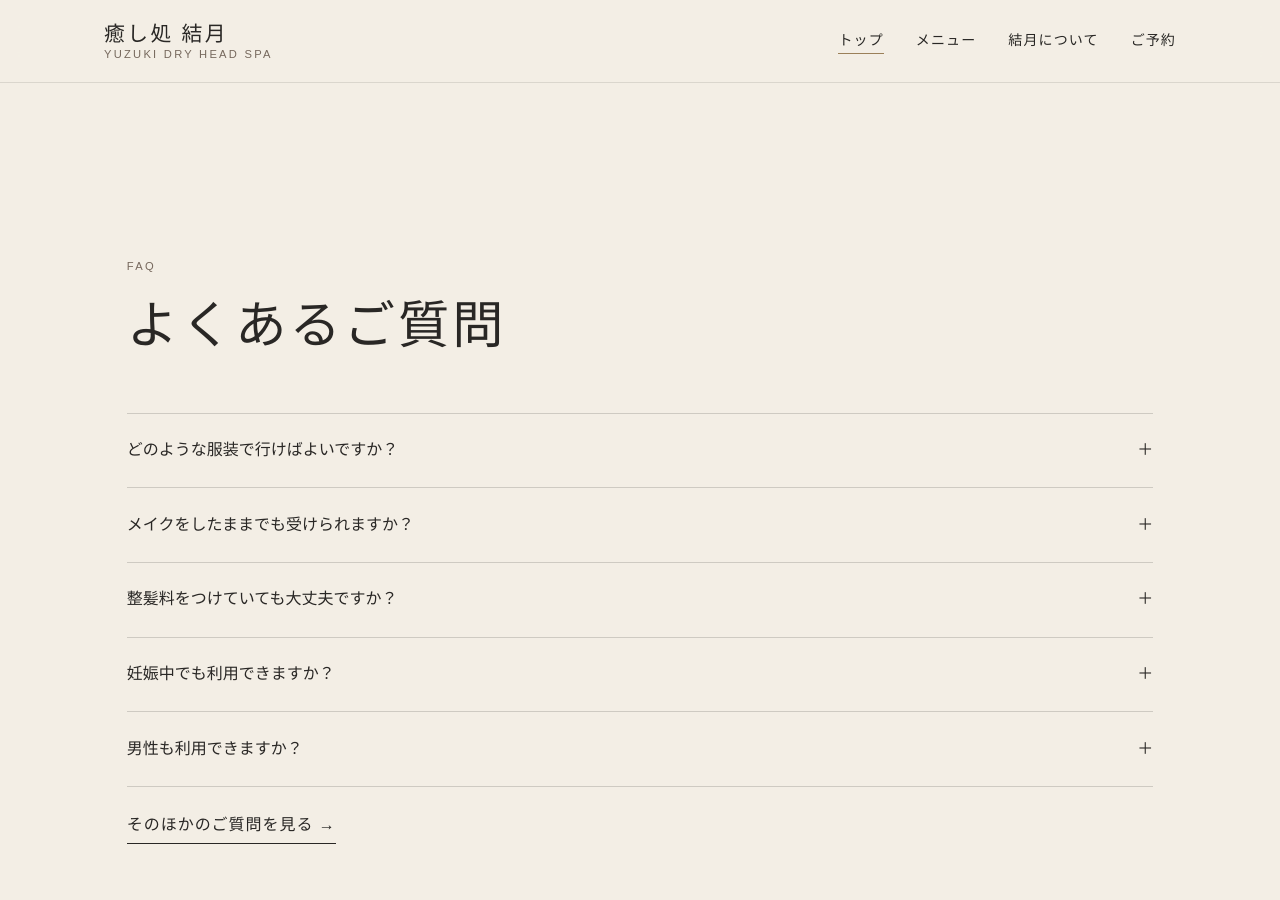
Test: TOPに必須コンテンツと操作可能なFAQを表示する
The image size is (1280, 900).
(page scrolled)
What coordinates should you click on to do the following:
click the button "どのような服装で行けばよいですか？ ＋"
I would click on:
 (263, 450)
Its box is [127, 414, 1153, 487].
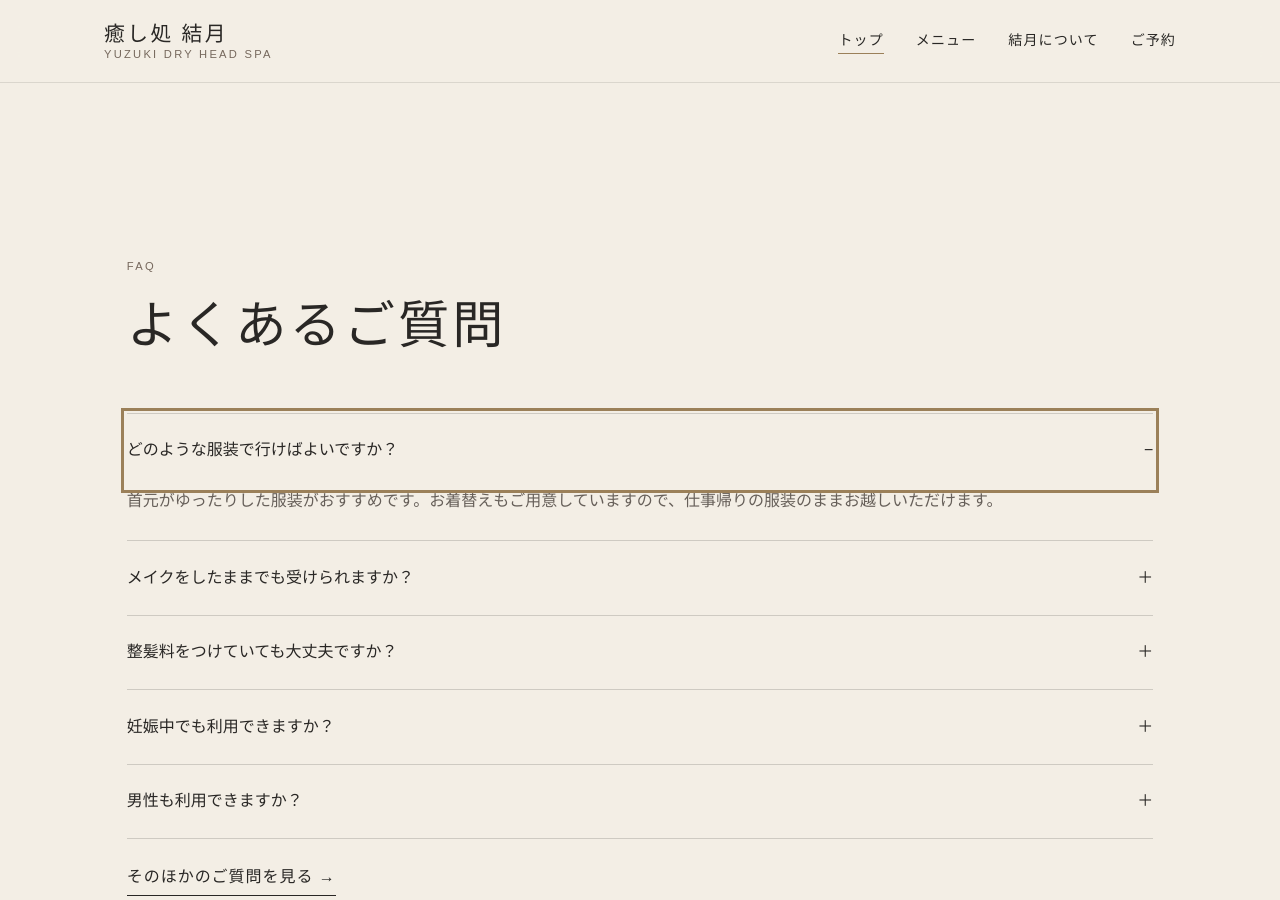
Check: the button "どのような服装で行けばよいですか？ −" is expanded, box [127, 414, 1153, 487]
Check: the text "首元がゆったりした服装がおすすめです。お着替えもご用意していますので、仕事帰りの服装のままお越しいただけます。" is shown, box [127, 492, 1002, 509]
What coordinates should you click on to do the following:
click the button "メイクをしたままでも受けられますか？ ＋"
I would click on:
 (270, 577)
Its box is [127, 541, 1153, 615].
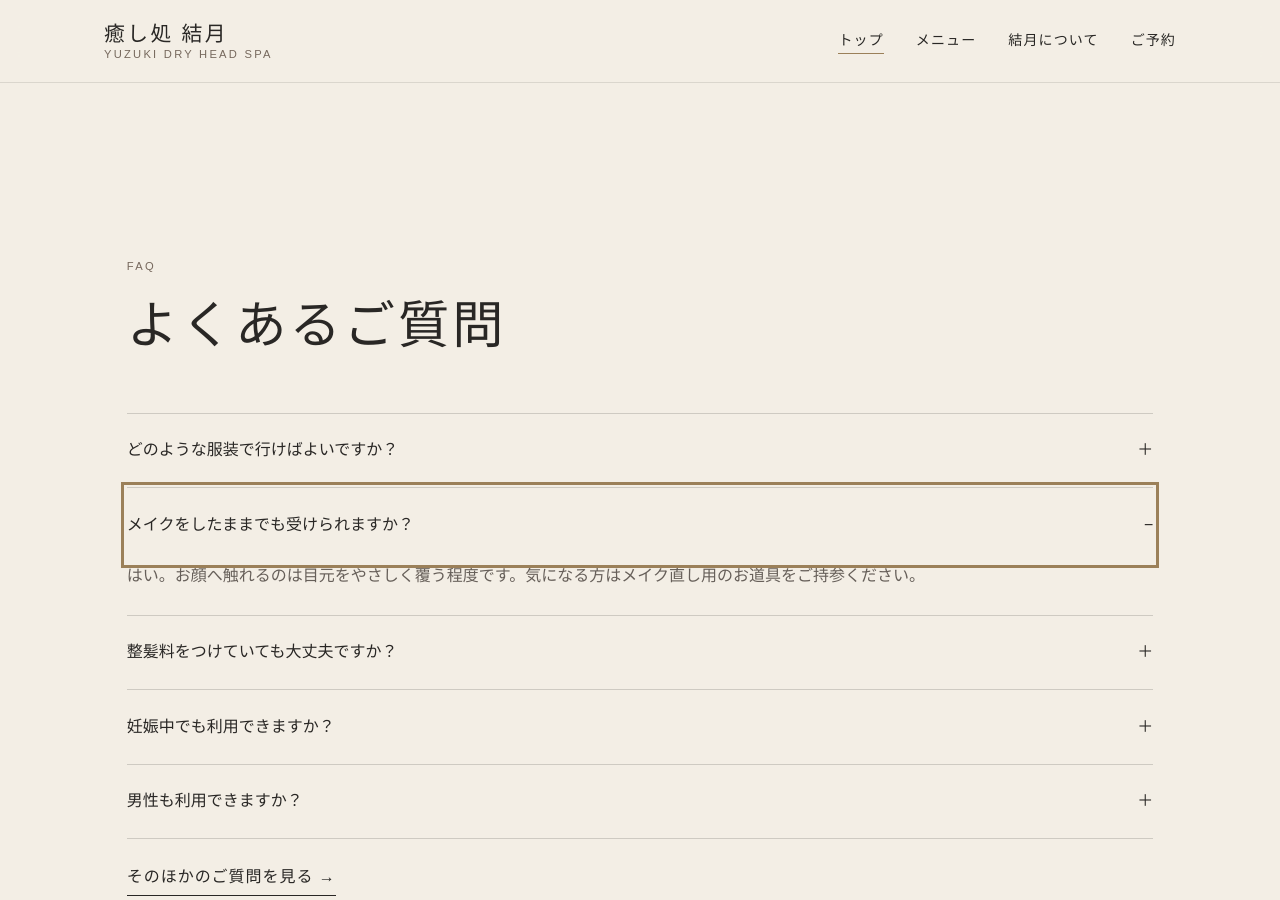
Check: the button "どのような服装で行けばよいですか？ ＋" is collapsed, box [127, 414, 1153, 487]
Check: the button "メイクをしたままでも受けられますか？ −" is expanded, box [127, 488, 1153, 562]
